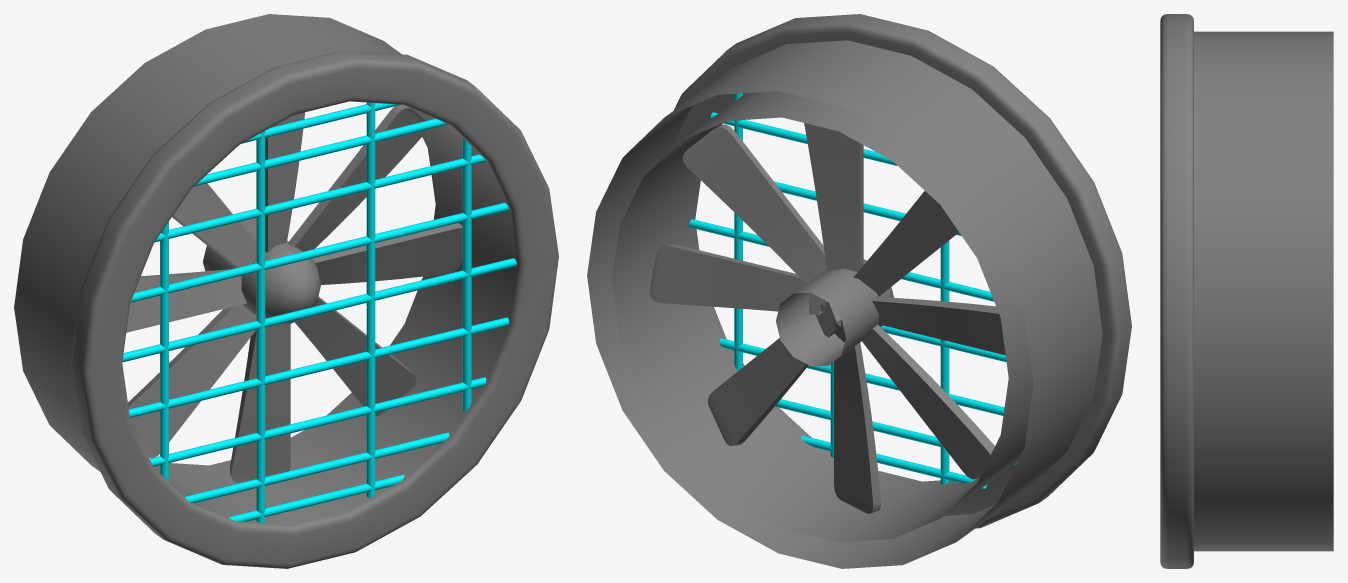
Rendered from Vent.fbx.
3 renders of one model, left to right at view 1: azimuth 30°, elevation 25°; view 2: azimuth 150°, elevation 25°; view 3: azimuth 270°, elevation 25°, orthographic.
Visible parts, largest first — view 1: vent, vent_fan; view 2: vent, vent_fan; view 3: vent.
Part boxes in pixels (bbox=[...]): vent: bbox=[14, 14, 558, 568]; vent_fan: bbox=[126, 104, 462, 483]; vent: bbox=[587, 14, 1131, 568]; vent_fan: bbox=[650, 123, 1005, 513]; vent: bbox=[1160, 14, 1333, 568].
Size of the model in its own units: 0.9606 by 0.3003 by 0.9508.
